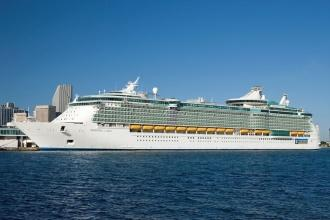youlun: (9, 80, 320, 152)
